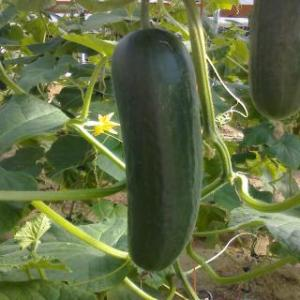cucumber: (110, 25, 205, 272), (245, 1, 299, 120)
